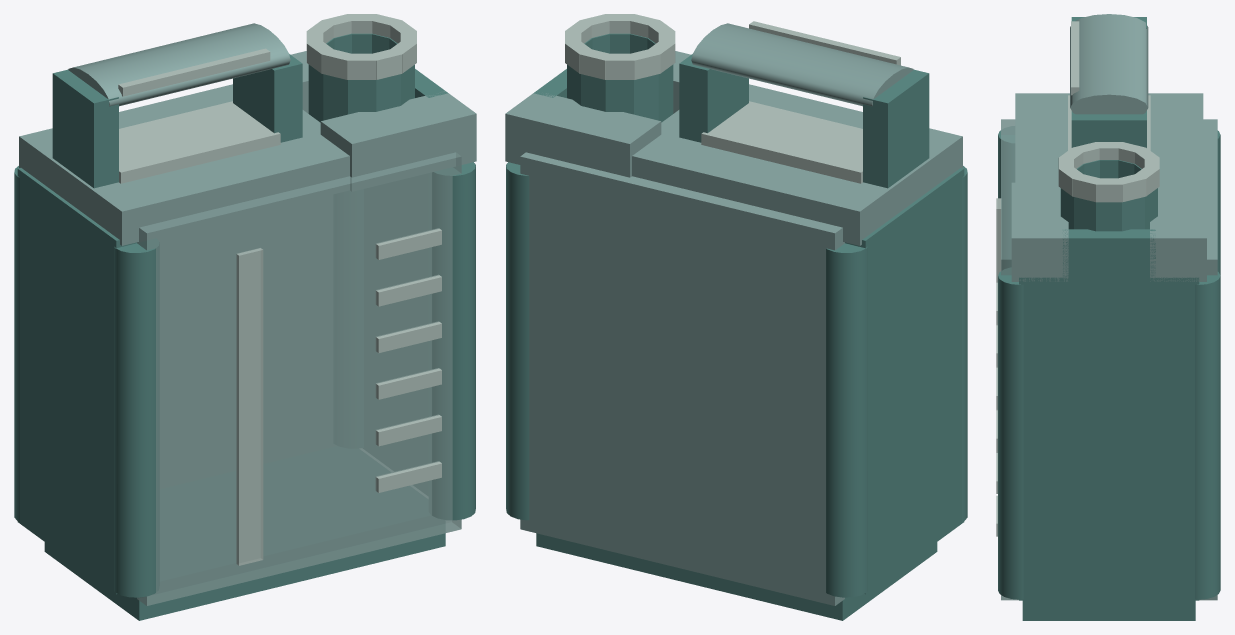
Rendered from CMU3DReagentJugCloud.glb.
3 views of the same model, side by side, from view 1: azimuth 30°, elevation 25°; view 2: azimuth 150°, elevation 25°; view 3: azimuth 270°, elevation 25° (orthographic). The views are drawn at different scales.
Visible parts, largest first — view 1: front translucent jug wall, left molded jug wall, rounded canister corner (×3), jug shoulder left deck, jug shoulder front around spout, front vertical molding, handle inner lower ledge, handle rounded bridge, handle left upright, closed molded jug floor, handle right upright, handle top glint (+13 smaller); view 2: back molded jug wall, left molded jug wall, rounded canister corner (×3), jug shoulder left deck, handle rounded bridge, jug shoulder rear around spout, handle inner lower ledge, handle left upright, closed molded jug floor, handle right upright, handle top glint, hollow pouring neck 06 (+6 smaller); view 3: right molded jug wall, rounded canister corner (×4), jug shoulder left deck, handle rounded bridge, jug shoulder front around spout, jug shoulder rear around spout, jug shoulder right around spout, closed molded jug floor, handle right upright, back molded jug wall, front translucent jug wall, hollow pouring neck 01 (+16 smaller).
Part boxes in pixels (<box>): front translucent jug wall: <box>137,152,461,605</box>; left molded jug wall: <box>17,168,137,594</box>; rounded canister corner (×3): <box>14,162,475,597</box>; jug shoulder left deck: <box>19,84,349,245</box>; jug shoulder front around spout: <box>320,91,476,191</box>; front vertical molding: <box>236,248,263,565</box>; handle inner lower ledge: <box>119,101,280,183</box>; handle rounded bridge: <box>68,23,290,106</box>; handle left upright: <box>52,69,118,188</box>; closed molded jug floor: <box>44,533,445,620</box>; handle right upright: <box>233,54,302,142</box>; handle top glint: <box>118,48,270,96</box>; back molded jug wall: <box>520,152,844,605</box>; left molded jug wall: <box>845,168,964,594</box>; rounded canister corner (×3): <box>506,162,967,597</box>; jug shoulder left deck: <box>632,84,962,245</box>; handle rounded bridge: <box>691,23,913,106</box>; jug shoulder rear around spout: <box>505,93,661,177</box>; handle inner lower ledge: <box>701,101,862,183</box>; handle left upright: <box>863,69,929,188</box>; closed molded jug floor: <box>536,533,937,620</box>; handle right upright: <box>679,54,748,142</box>; handle top glint: <box>749,21,900,65</box>; hollow pouring neck 06: <box>634,74,658,120</box>; right molded jug wall: <box>1019,277,1199,600</box>; rounded canister corner (×4): <box>998,130,1220,599</box>; jug shoulder left deck: <box>1015,93,1203,182</box>; handle rounded bridge: <box>1070,14,1148,114</box>; jug shoulder front around spout: <box>1011,182,1068,281</box>; jug shoulder rear around spout: <box>1150,182,1206,281</box>; jug shoulder right around spout: <box>1062,229,1155,281</box>; closed molded jug floor: <box>1022,600,1195,620</box>; handle right upright: <box>1071,111,1146,147</box>; back molded jug wall: <box>1199,119,1217,600</box>; front translucent jug wall: <box>1001,119,1018,600</box>; hollow pouring neck 01: <box>1096,202,1121,231</box>.
Bounding box in the file's own units: 0.502 × 0.688 × 0.298.
